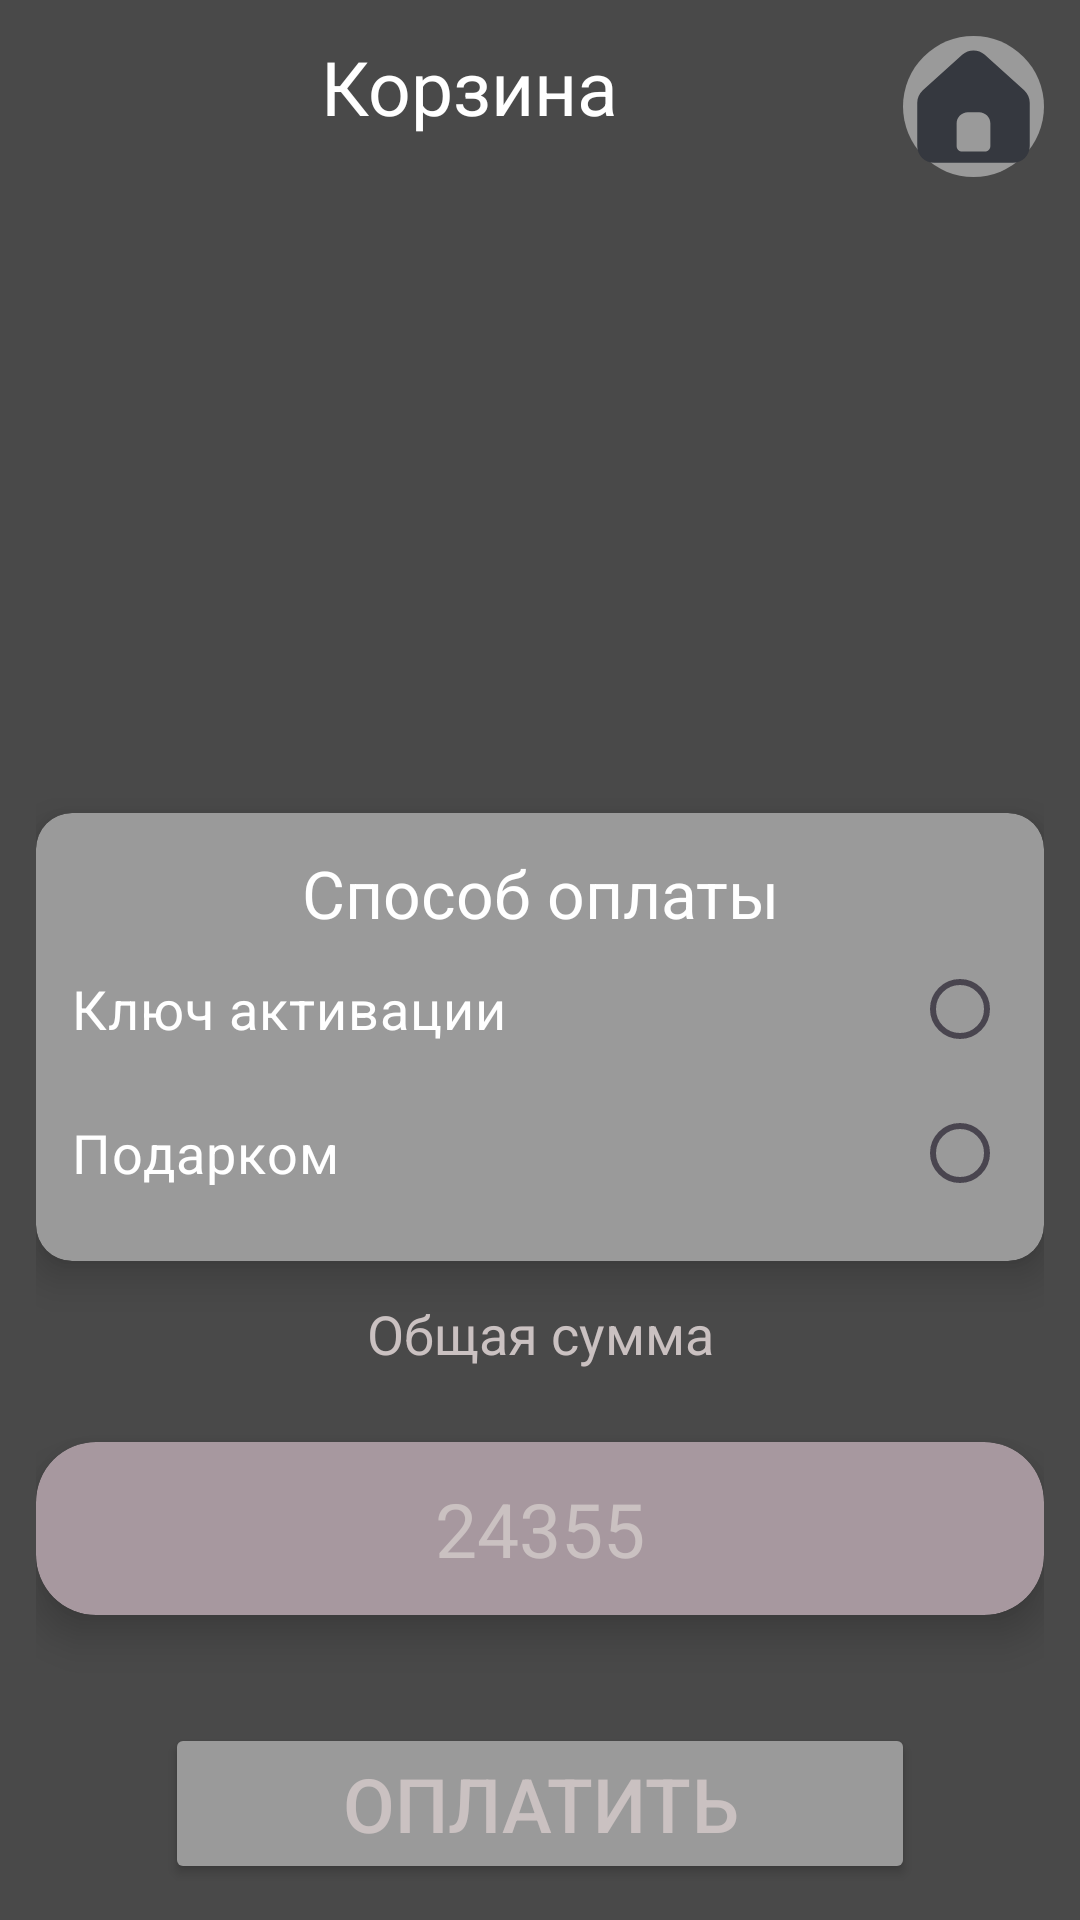

Icons on this 1080px×1920px Android screen, each with its box as {"left": x1, "top": y1, "right": x2, "bottom": y2}:
home: {"left": 903, "top": 36, "right": 1044, "bottom": 177}
